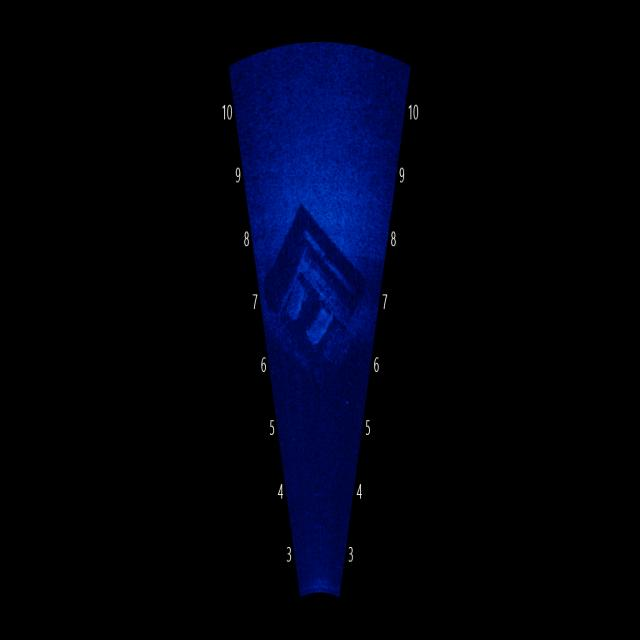square: (254, 189, 374, 395)
